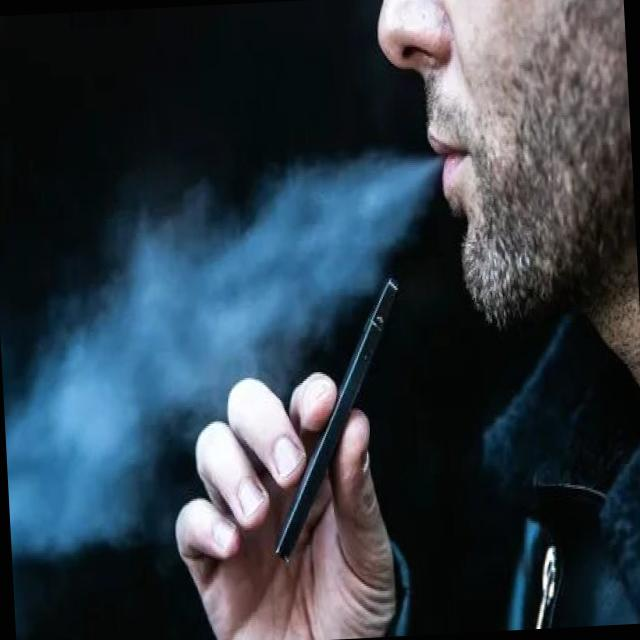smoke: (258, 272, 420, 570)
